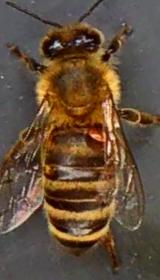varroa_mite: (85, 124, 111, 142)
